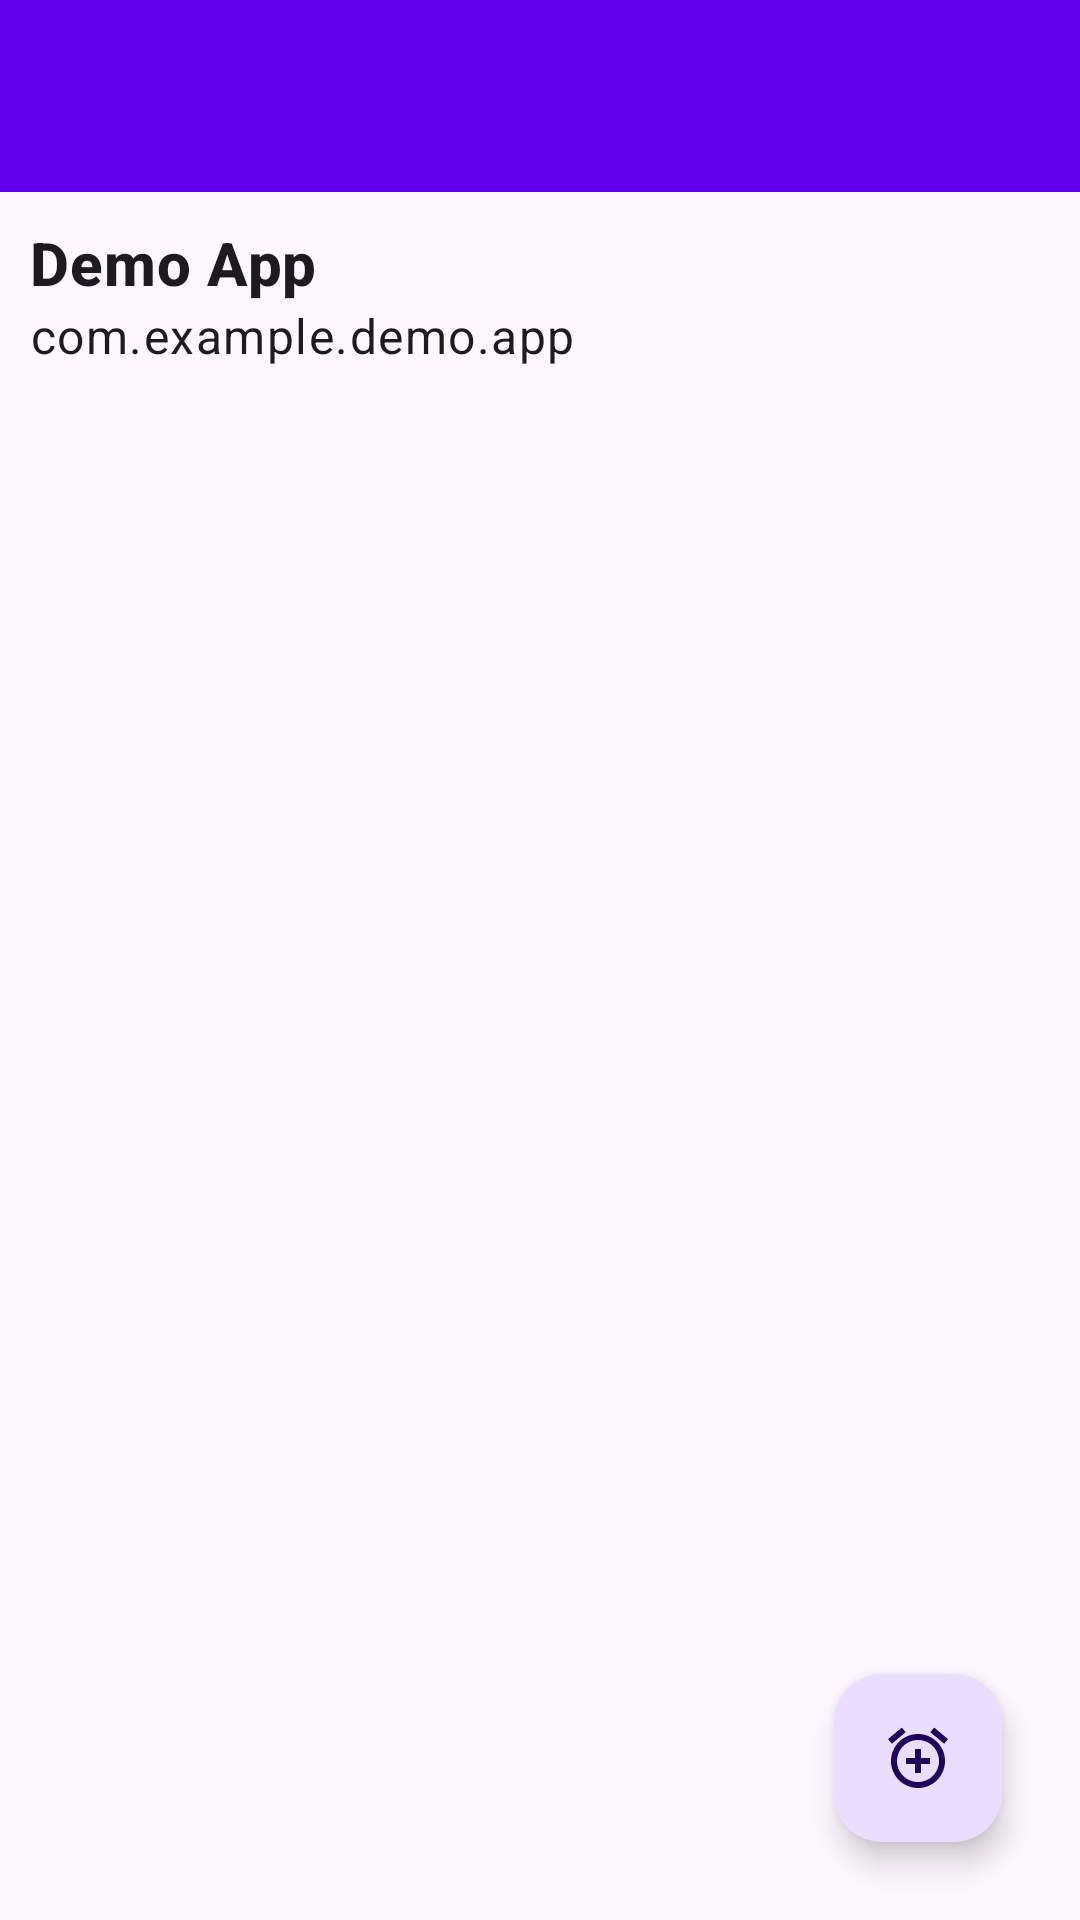

Icon bounding boxes for this 1080 x 1920 phone screenshot, format detection(x1, y1, x2, y2):
add alarms: detection(834, 1674, 1002, 1842)
